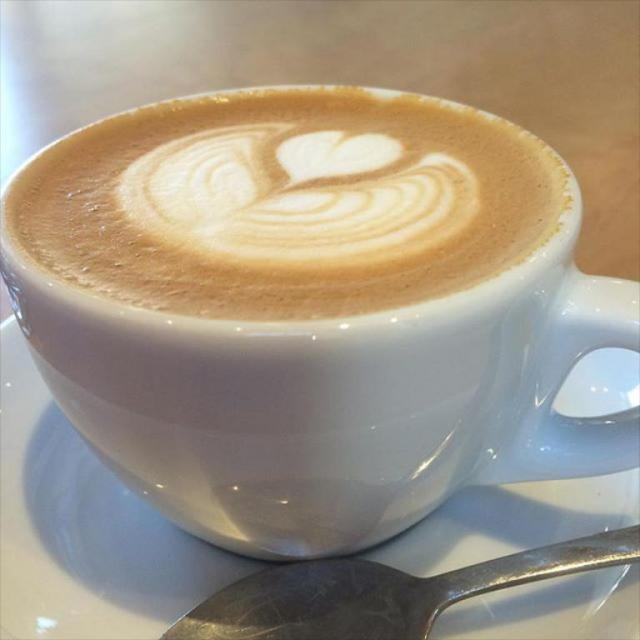latte: (1, 83, 582, 336)
